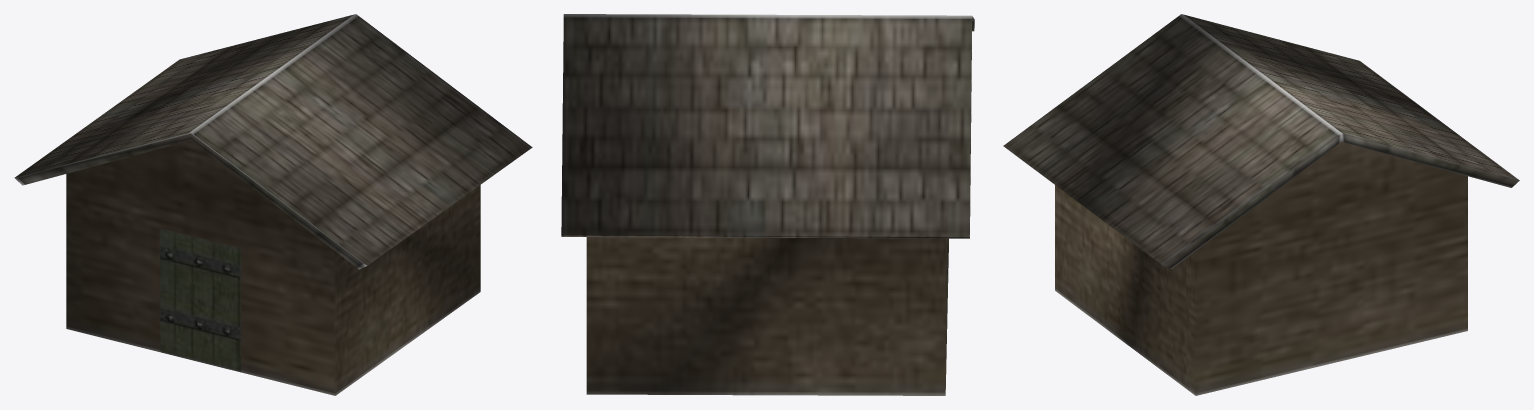
File: pastvina_domek5.fbx
The picture shows the model from 3 angles, left to right: view 1: azimuth 30°, elevation 25°; view 2: azimuth 150°, elevation 25°; view 3: azimuth 270°, elevation 25°; orthographic projection. The views are drawn at different scales.
Visible parts, largest first — view 1: Do_Strecha5, Do_Steny5, Do_Dvere5; view 2: Do_Strecha5, Do_Steny5; view 3: Do_Steny5, Do_Strecha5.
Boxes of the visible parts, <box> form: Do_Strecha5: <box>14,14,532,269</box>; Do_Steny5: <box>66,140,480,395</box>; Do_Dvere5: <box>160,228,241,372</box>; Do_Strecha5: <box>561,14,974,238</box>; Do_Steny5: <box>586,237,948,395</box>; Do_Steny5: <box>1055,142,1467,395</box>; Do_Strecha5: <box>1003,14,1519,269</box>.
Bounding box in the file's own units: 2.89 × 1.56 × 3.08.
Materials: 1 (1 with a texture image).
